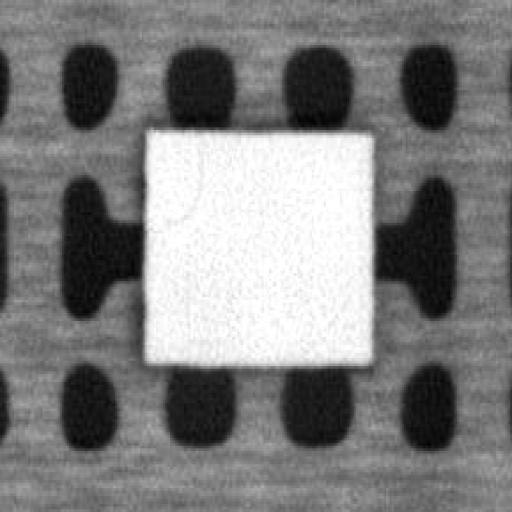DIE_CRACK: (161, 151, 206, 226)
